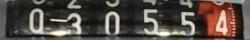digits: (142, 8, 160, 36), (66, 12, 84, 36), (180, 10, 196, 37), (104, 11, 120, 36), (28, 8, 44, 33), (214, 9, 228, 35)
